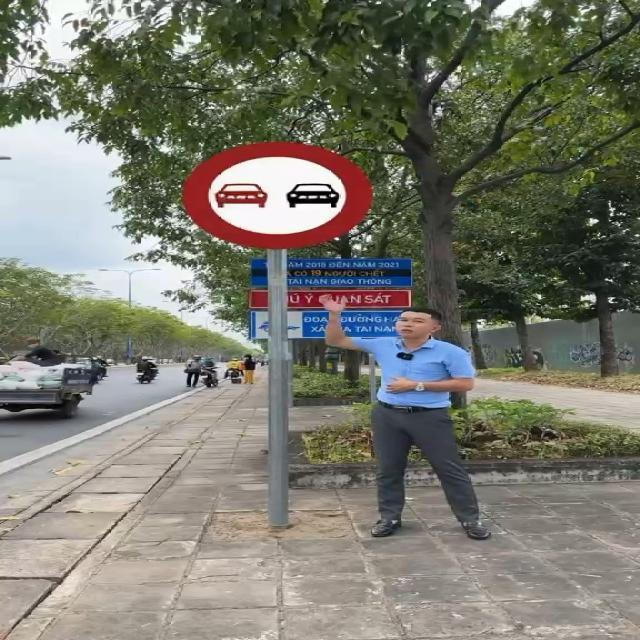125-cam-vuot: (178, 139, 368, 247)
